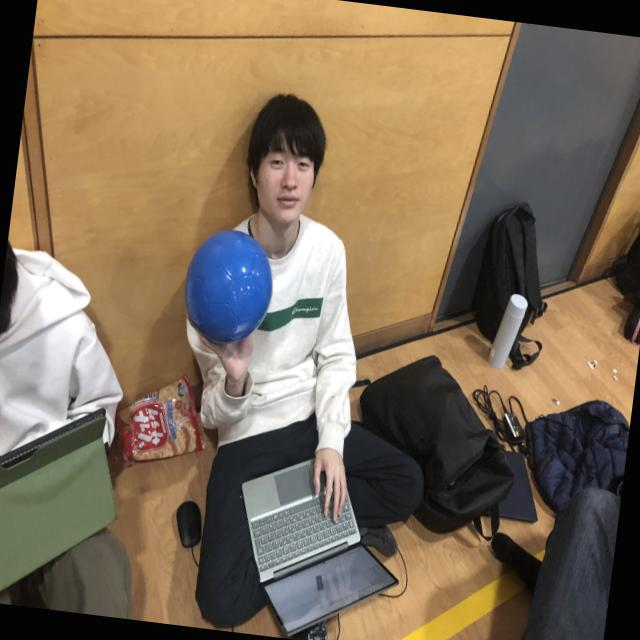blue_ball: (179, 224, 281, 355)
